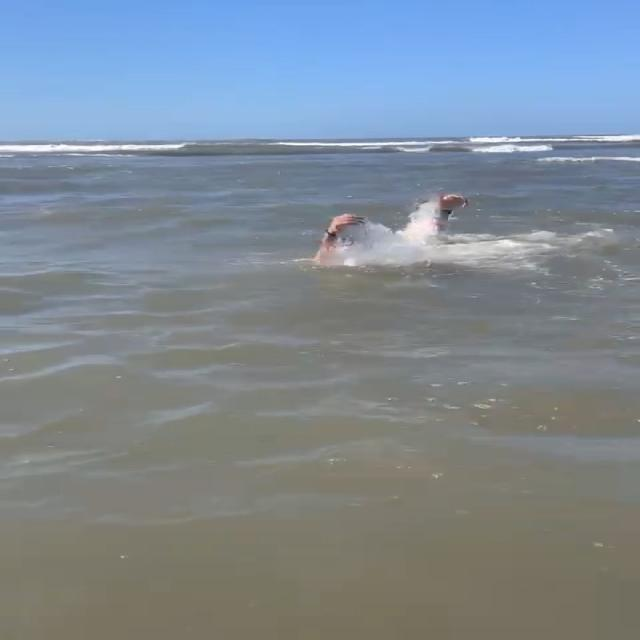Out of Water: (316, 190, 467, 270)
